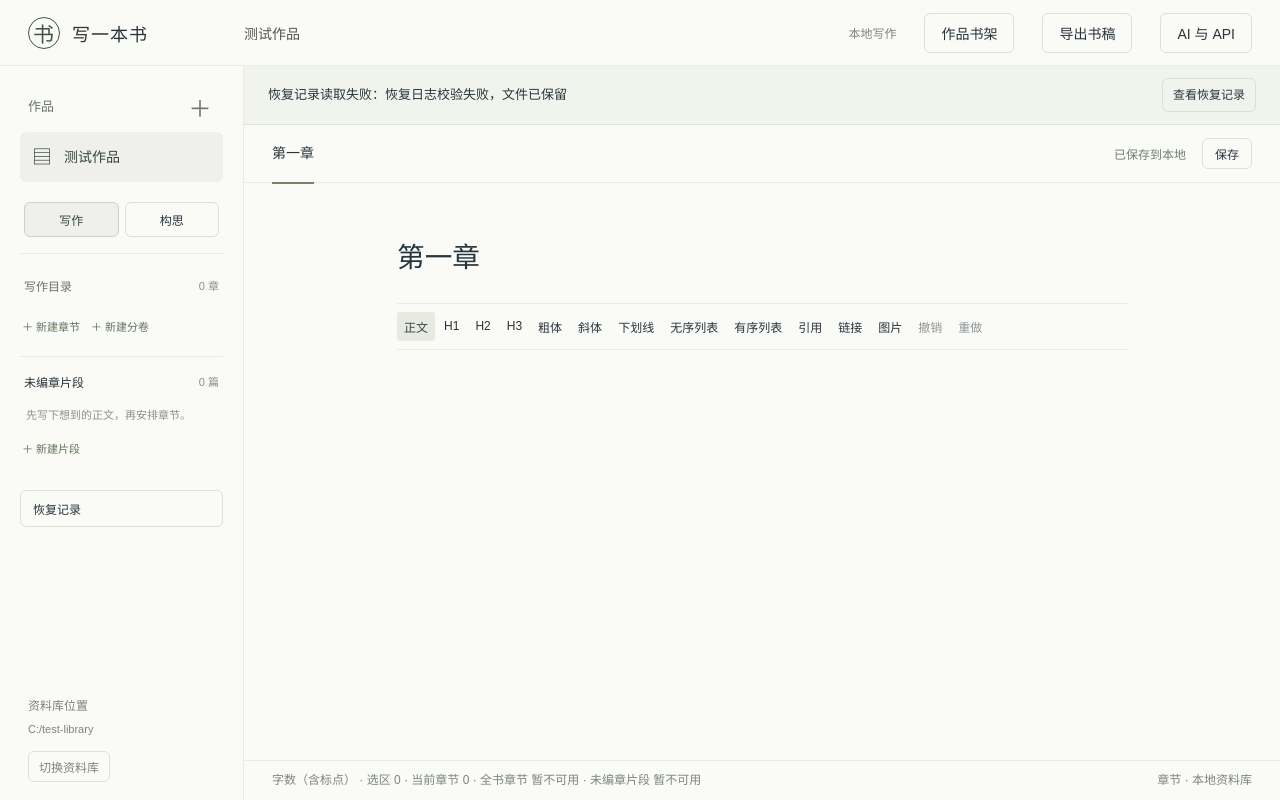
it: reports unreadable recovery storage without inventing an empty successful scan
Click the button with class "recovery-sidebar-entry".
click(122, 508)  # box x1=20 y1=490 x2=223 y2=527
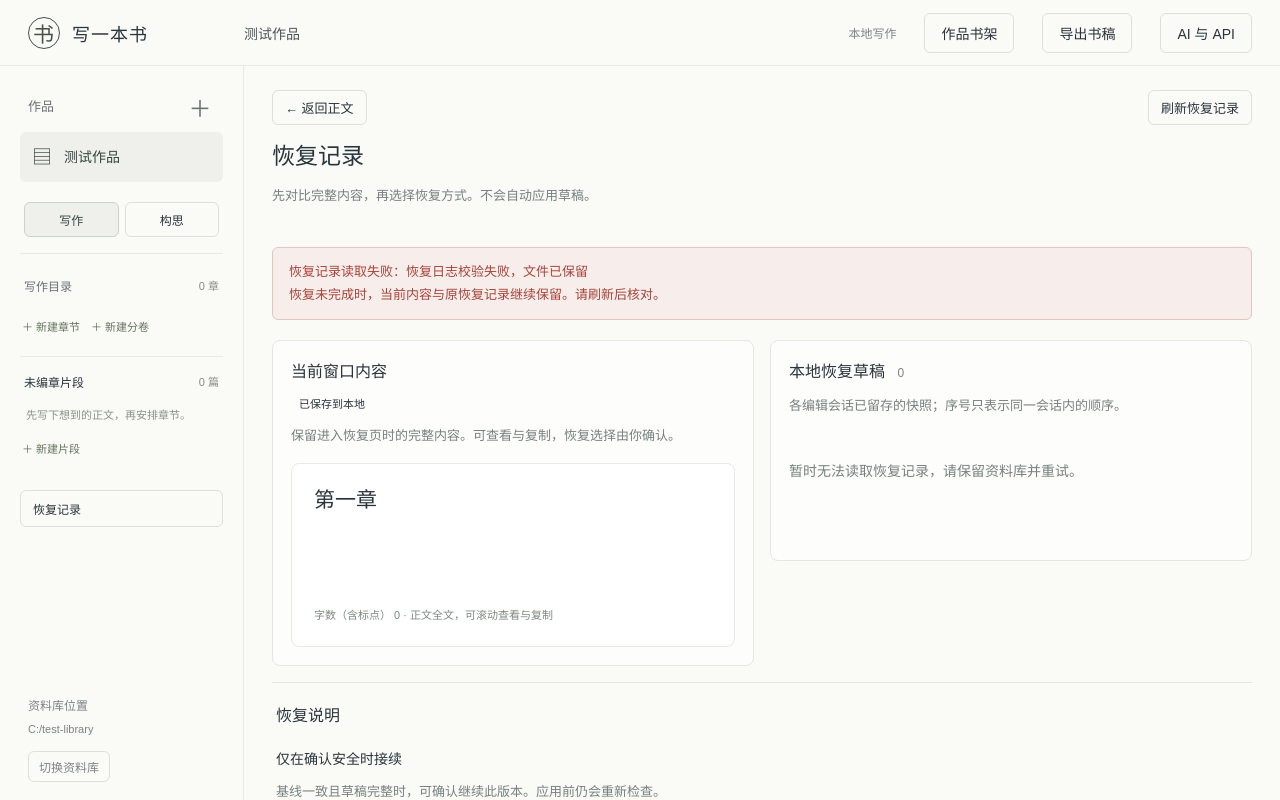
Check: the element with class "recovery-panel" is shown
Check: the text "暂时无法读取恢复记录" is shown, box x1=789 y1=463 x2=1083 y2=479
